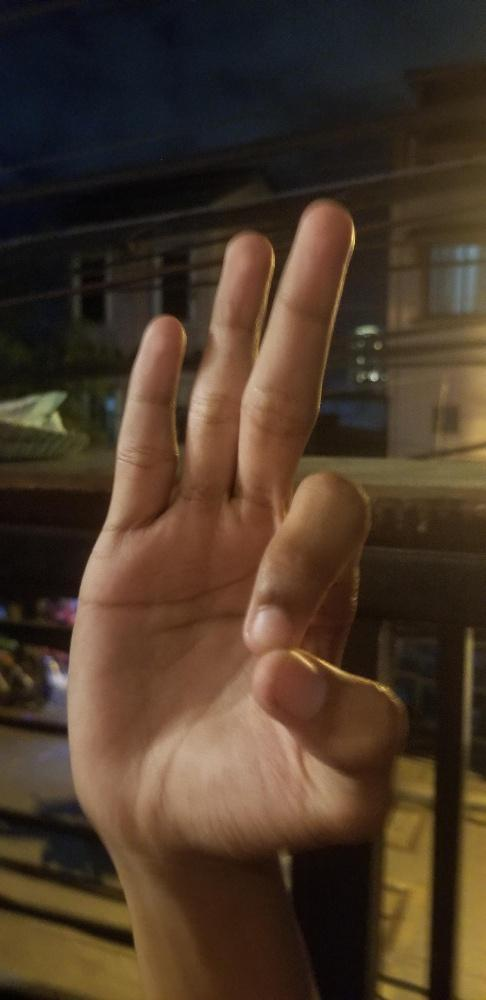f: (65, 197, 402, 867)
